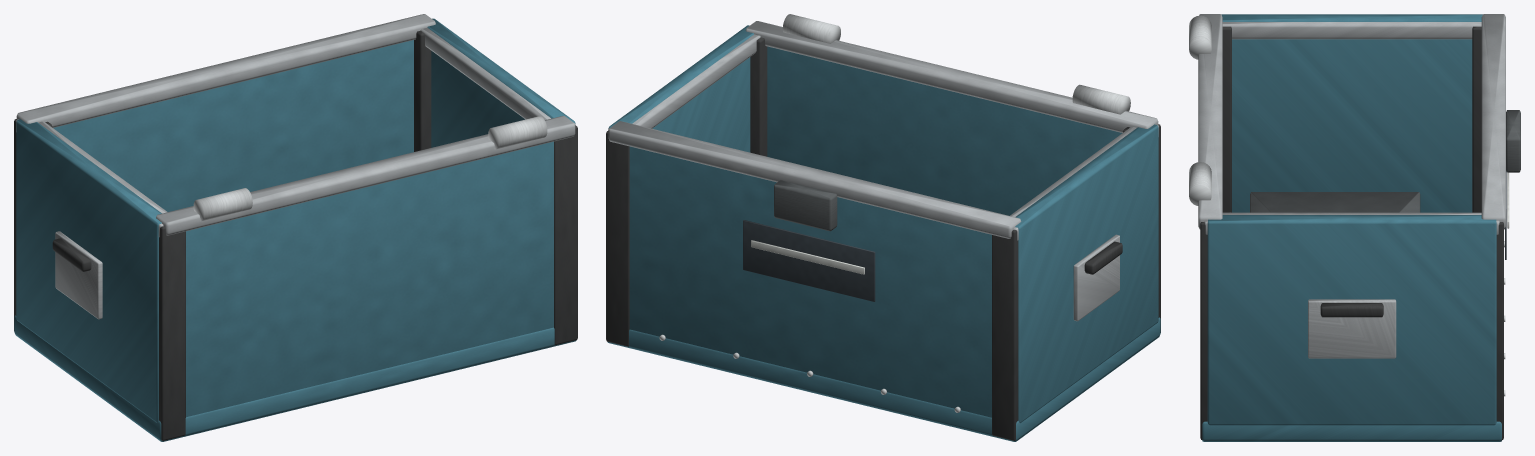
3 views of the same model, side by side, from view 1: azimuth 30°, elevation 25°; view 2: azimuth 150°, elevation 25°; view 3: azimuth 270°, elevation 25° (orthographic). The views are drawn at different scales.
Visible parts, largest first — view 1: VIS_EndWall_1, VIS_EndWall_-1, VIS_WallSide_-1, VIS_BasinFloor, VIS_EndRim_-1, VIS_EndRim_1, VIS_WallSide_1, VIS_CornerBumper_Rear_-1, VIS_CornerBumper_Rear_1, VIS_ReinforcementSide_1, VIS_HandleBase_-1, VIS_CornerBumper_Front_1 (+5 smaller); view 2: VIS_EndWall_-1, VIS_EndWall_1, VIS_WallSide_-1, VIS_EndRim_-1, VIS_BasinFloor, VIS_EndRim_1, VIS_WallSide_1, VIS_StencilPlate, VIS_CornerBumper_Front_-1, VIS_CornerBumper_Front_1, VIS_LidCatchSocket, VIS_ReinforcementSide_1 (+8 smaller); view 3: VIS_WallSide_1, VIS_WallSide_-1, VIS_EndRim_-1, VIS_BasinFloor, VIS_HandleBase_1, VIS_ReinforcementSide_-1, VIS_EndRim_1, VIS_RaisedInteriorShelf, VIS_CornerBumper_Front_-1, VIS_CornerBumper_Rear_-1, VIS_CornerBumper_Rear_1, VIS_CornerBumper_Front_1 (+5 smaller).
Boxes of the visible parts, x1,y1,x2,y2 form: VIS_EndWall_1: (186, 141, 553, 417); VIS_EndWall_-1: (53, 40, 413, 211); VIS_WallSide_-1: (16, 119, 161, 422); VIS_BasinFloor: (14, 315, 576, 441); VIS_EndRim_-1: (16, 14, 435, 127); VIS_EndRim_1: (156, 116, 575, 235); VIS_WallSide_1: (427, 18, 575, 147); VIS_CornerBumper_Rear_-1: (159, 226, 185, 440); VIS_CornerBumper_Rear_1: (554, 125, 577, 345); VIS_ReinforcementSide_1: (421, 27, 575, 125); VIS_HandleBase_-1: (55, 231, 102, 319); VIS_CornerBumper_Front_1: (414, 30, 431, 151); VIS_EndWall_-1: (629, 146, 991, 417); VIS_EndWall_1: (767, 46, 1122, 215); VIS_WallSide_-1: (1015, 124, 1158, 422); VIS_EndRim_-1: (608, 121, 1021, 238); VIS_BasinFloor: (607, 317, 1160, 441); VIS_EndRim_1: (745, 21, 1158, 132); VIS_WallSide_1: (608, 25, 753, 152); VIS_StencilPlate: (743, 220, 875, 301); VIS_CornerBumper_Front_-1: (992, 230, 1018, 440); VIS_CornerBumper_Front_1: (606, 130, 629, 346); VIS_LidCatchSocket: (774, 180, 837, 231); VIS_ReinforcementSide_1: (608, 34, 760, 130); VIS_WallSide_1: (1207, 215, 1496, 425); VIS_WallSide_-1: (1221, 14, 1482, 212); VIS_EndRim_-1: (1481, 14, 1505, 229); VIS_BasinFloor: (1202, 421, 1501, 441); VIS_HandleBase_1: (1308, 299, 1396, 358); VIS_ReinforcementSide_-1: (1222, 22, 1481, 39); VIS_EndRim_1: (1198, 14, 1222, 229); VIS_RaisedInteriorShelf: (1250, 192, 1420, 212); VIS_CornerBumper_Front_-1: (1472, 26, 1481, 212); VIS_CornerBumper_Rear_-1: (1222, 26, 1231, 212); VIS_CornerBumper_Rear_1: (1200, 212, 1230, 439); VIS_CornerBumper_Front_1: (1473, 212, 1503, 439).
Size of the model in its own units: 0.854 by 0.4185 by 0.527.
Materials: 7 (7 with a texture image).
